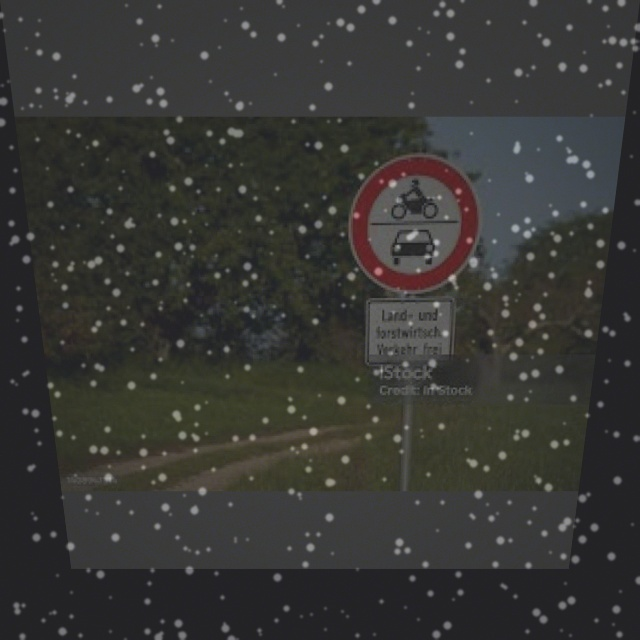All_Motor_Vehicles_Prohibited: (342, 150, 485, 293)
